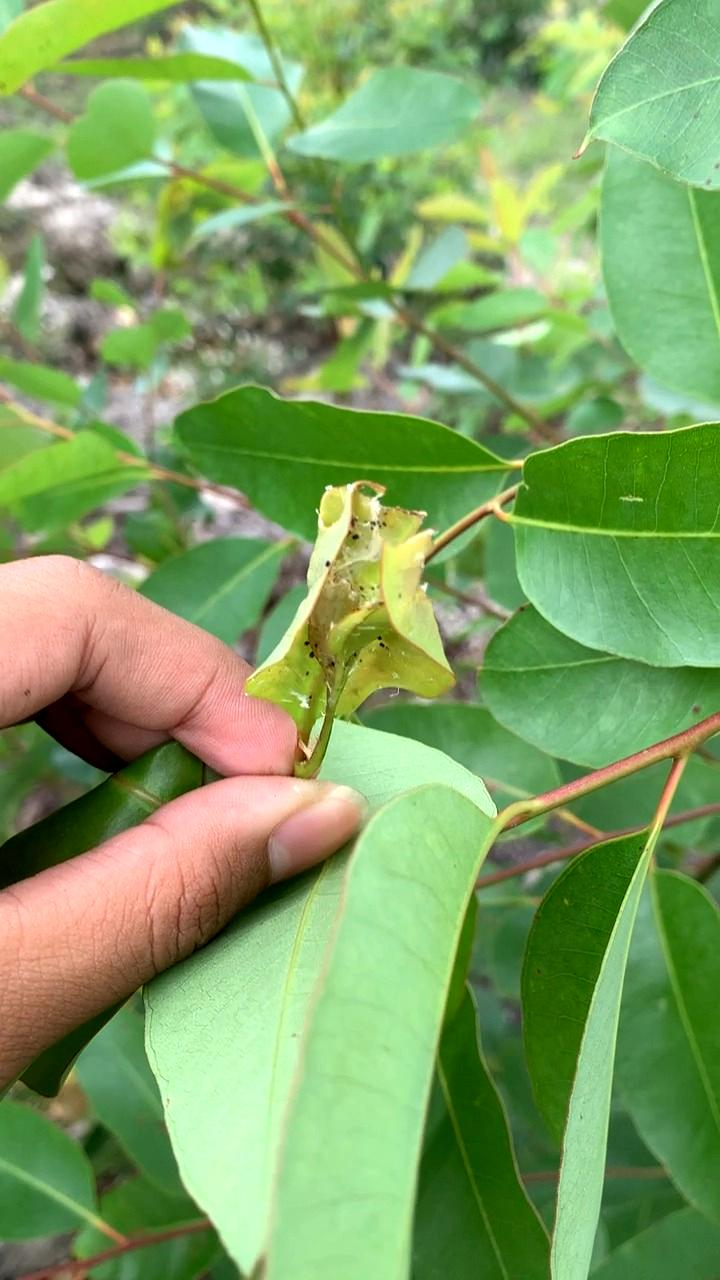Leaf Roller - Leaf: (228, 460, 467, 743)
